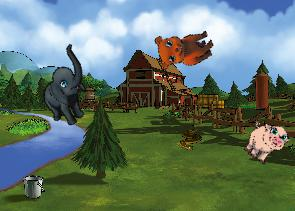bear: (149, 16, 218, 77)
elephant: (24, 43, 109, 132)
pig: (238, 114, 293, 170)
